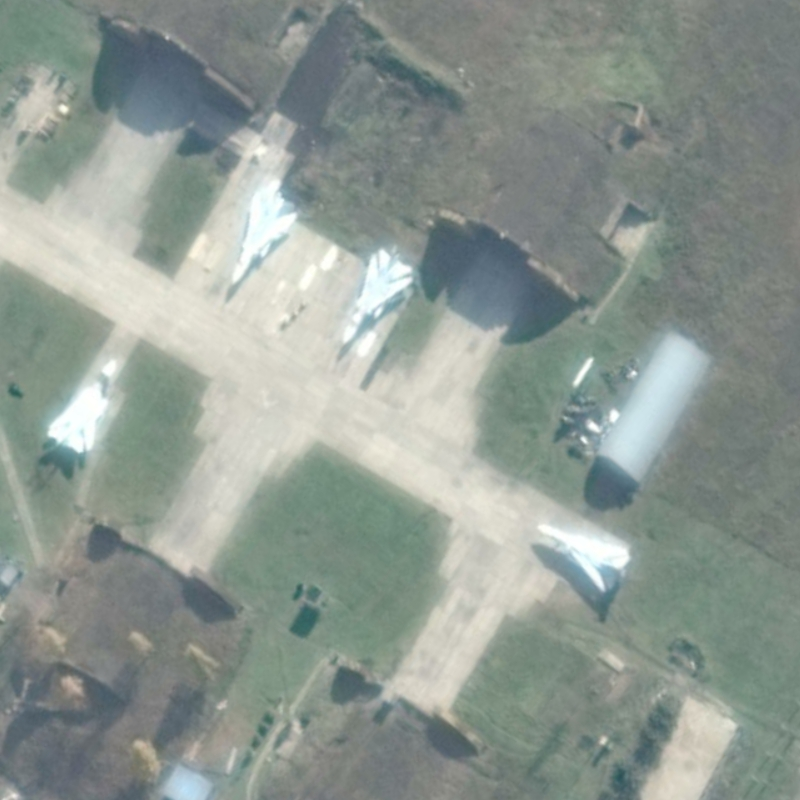A20: (227, 184, 302, 288), (339, 247, 415, 346), (533, 521, 633, 595), (45, 357, 120, 455)
